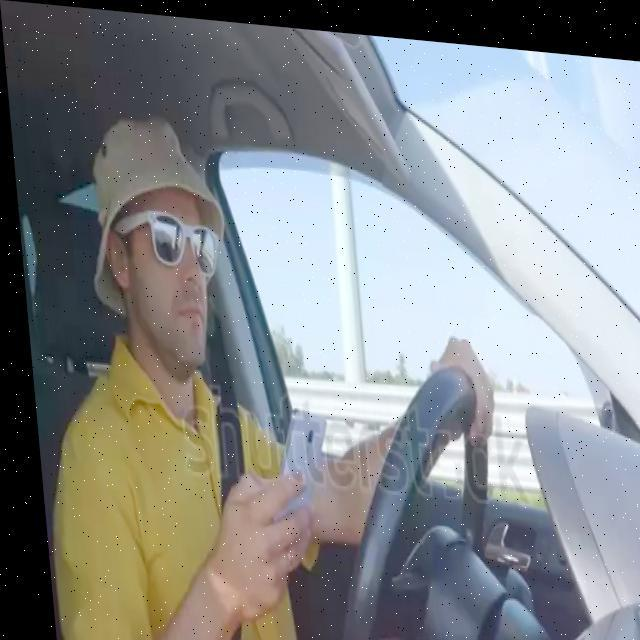PhoneCall: (258, 402, 326, 528)
